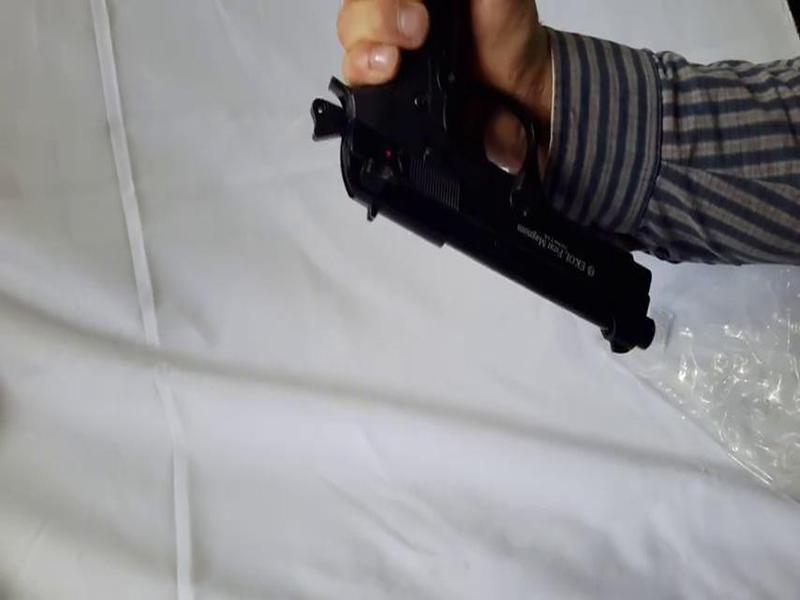Pistola: (306, 1, 680, 354)
